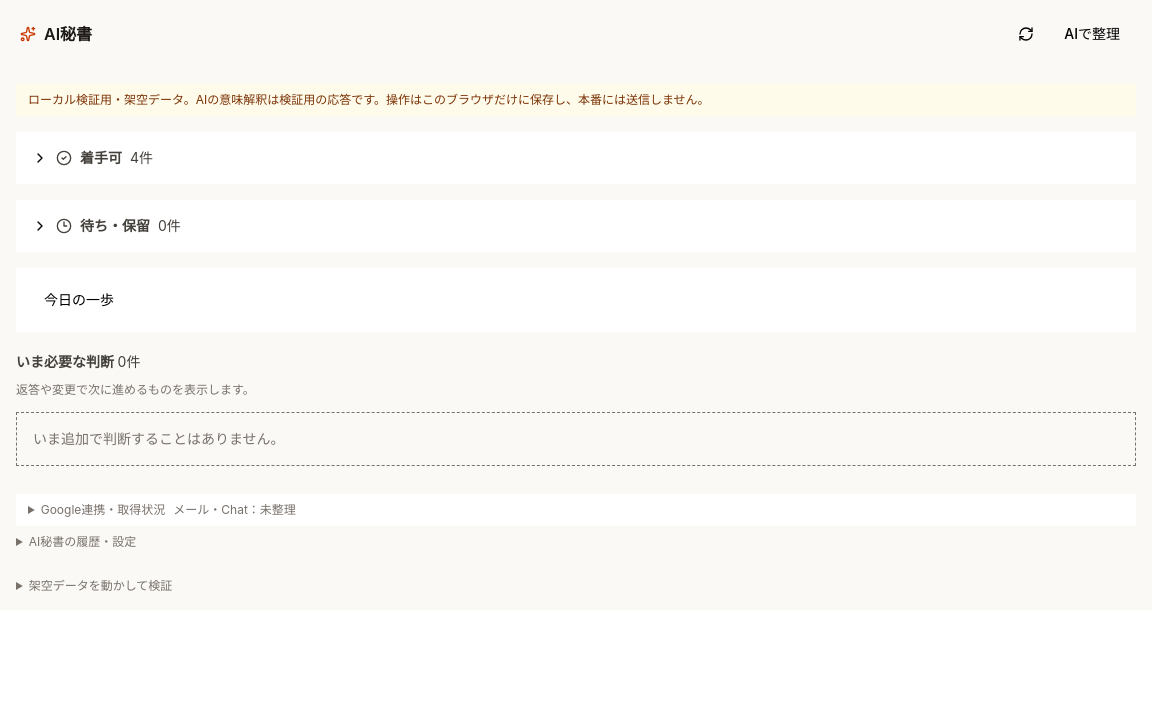
shows an optional extra task only after opening the chooser; never starts it automatically
The image size is (1152, 720).
Expected: the element named "余裕があるとき" does not show "公開用の紹介文を整える", 16,268 -> 1136,332
Click the button "今日の一歩" at (79, 300), box 32,284 -> 126,316
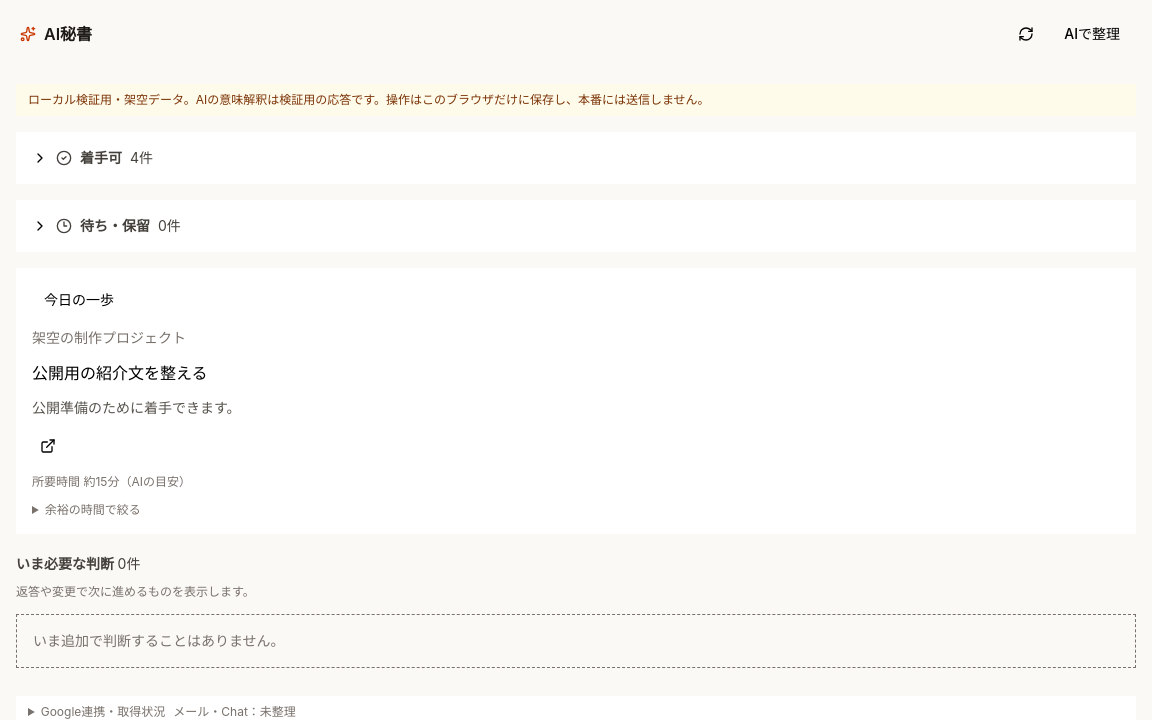
Now the button "公開用の紹介文を整える" is shown, box 32,360 -> 208,386
